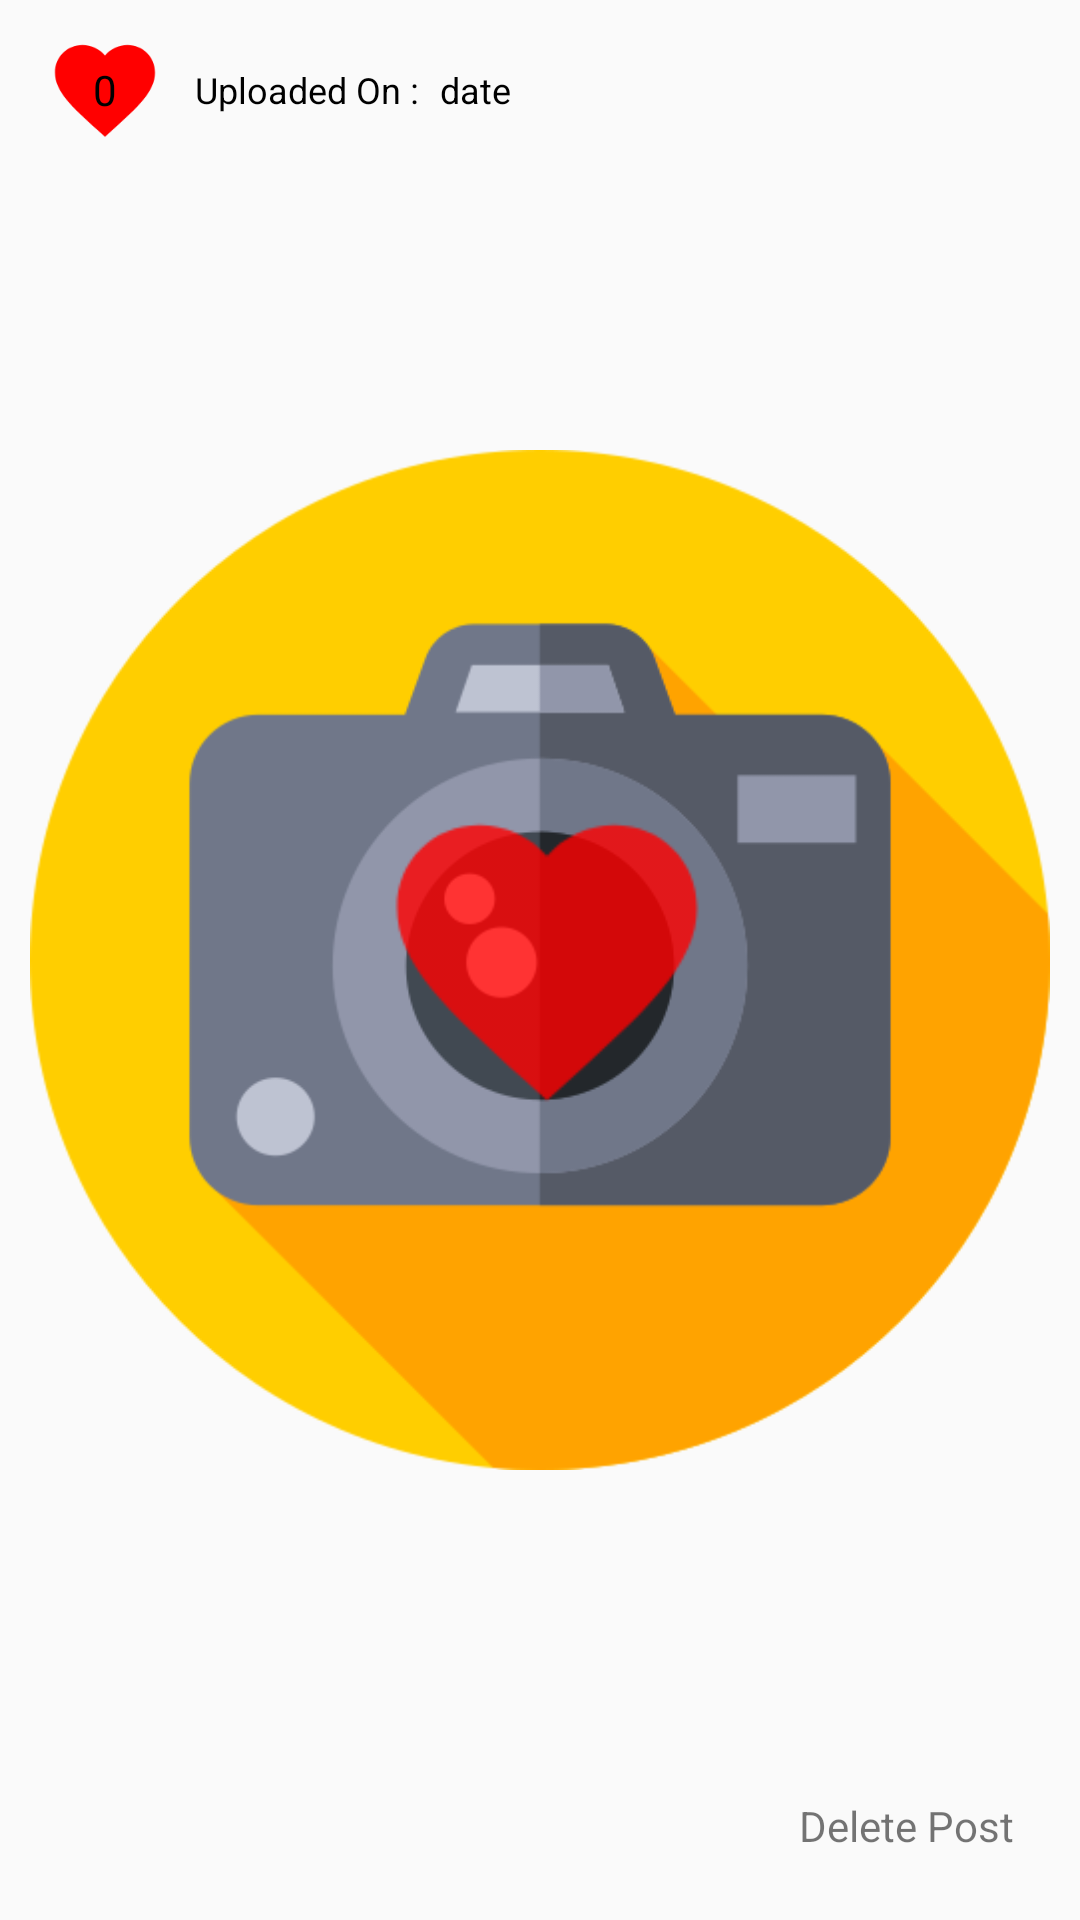

Screen size 1080 × 1920. Icon name, then its center in pixels as [x,y]:
like: [105,90], [547,960]
